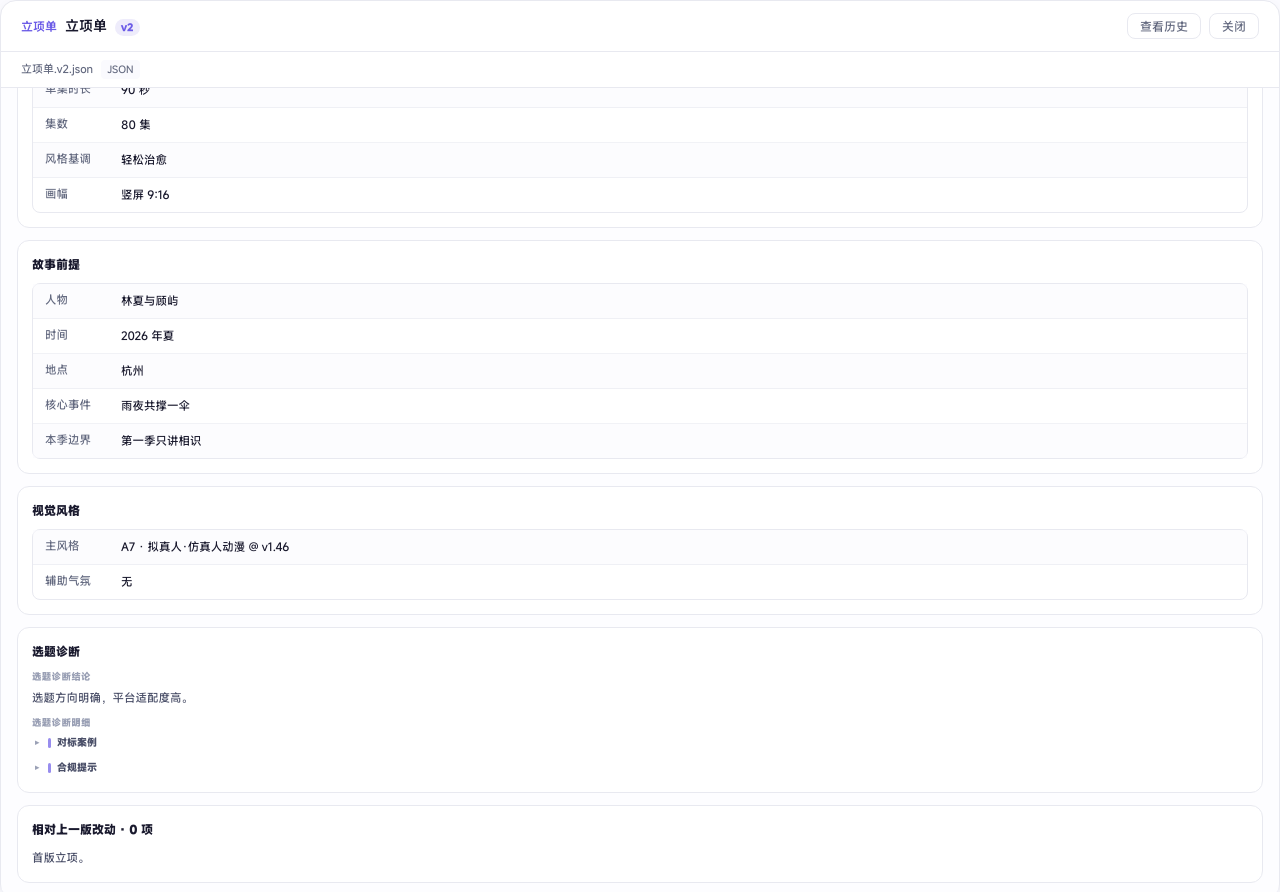
Test: BriefView · 落盘字段完整（B-32） › diagnosisDetail 落盘 → 「选题诊断明细」小节按【标题】分节渲染
(page scrolled)
Expected: the text "选题诊断明细" is shown, [32,716,91,729]
Expected: the text "选题诊断结论" is shown, [32,670,91,683]
What coordinates should you click on to do the following:
click the button "▸ 对标案例"
I would click on:
 (77, 743)
Its box is [32,734,1244,751].
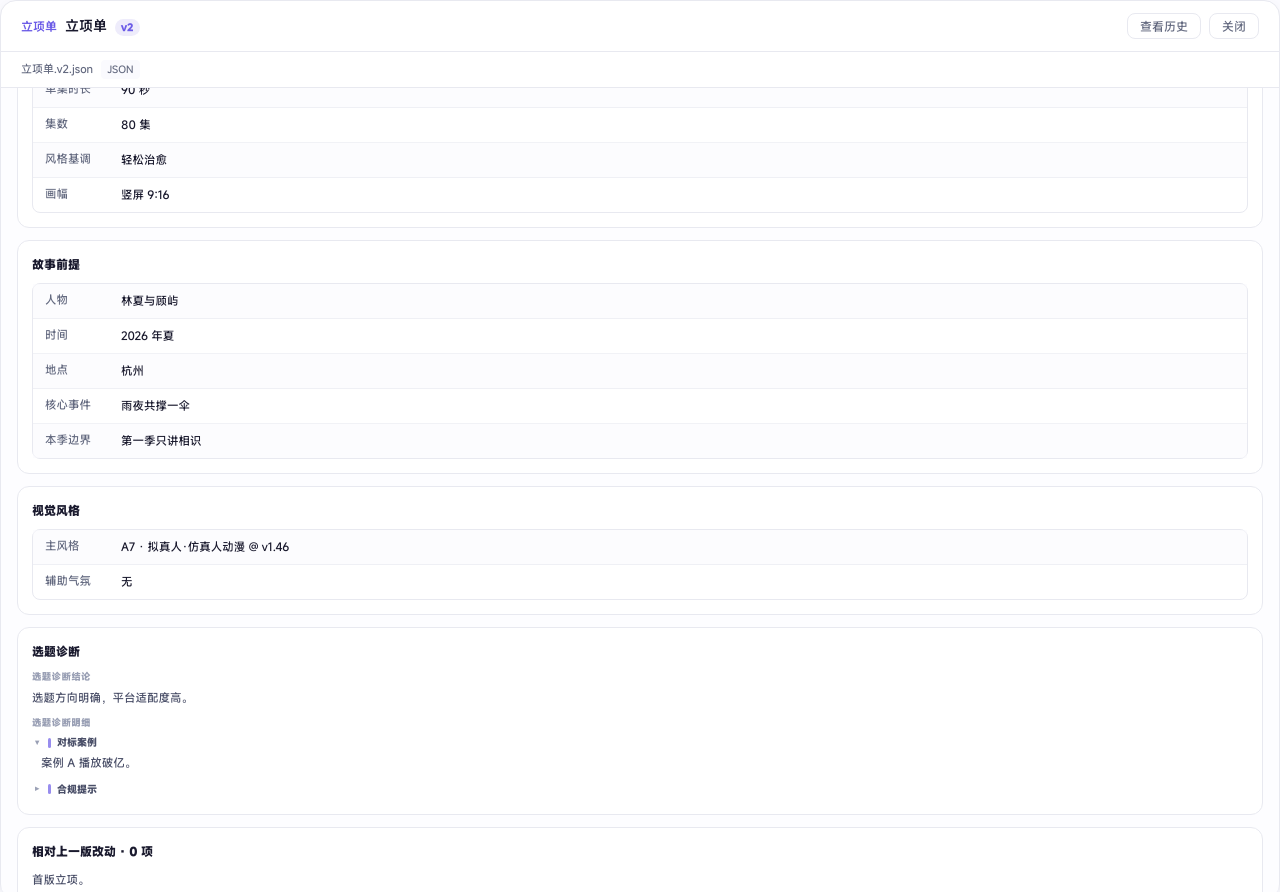
Expected: the text "校园题材注意规避。" is not shown
Now the text "案例 A 播放破亿。" is shown, box [41,755,136,770]
What coordinates should you click on to do the following:
click the button "▸ 合规提示"
I would click on:
 (77, 789)
Its box is [32,781,1244,798].
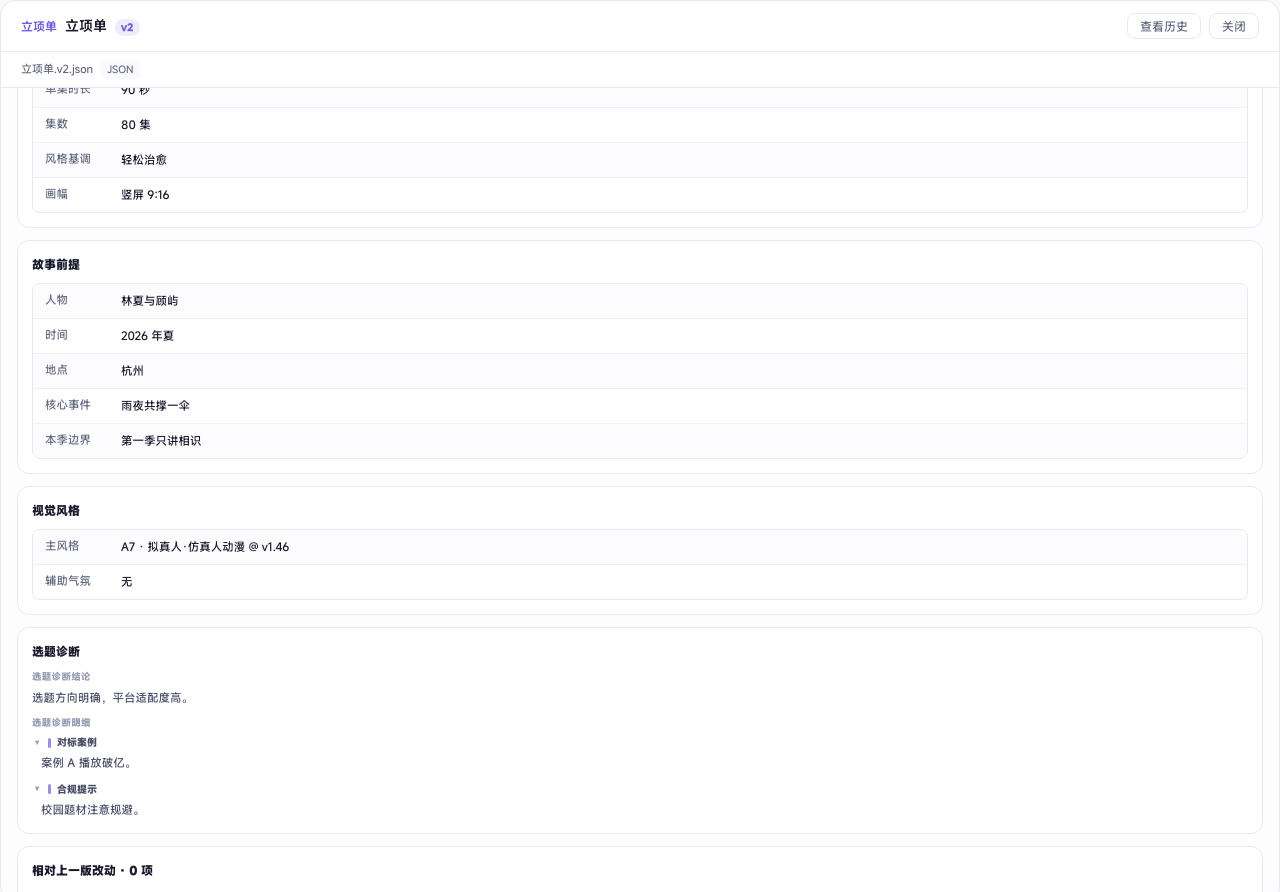
Now the text "校园题材注意规避。" is shown, box [41,802,144,817]
